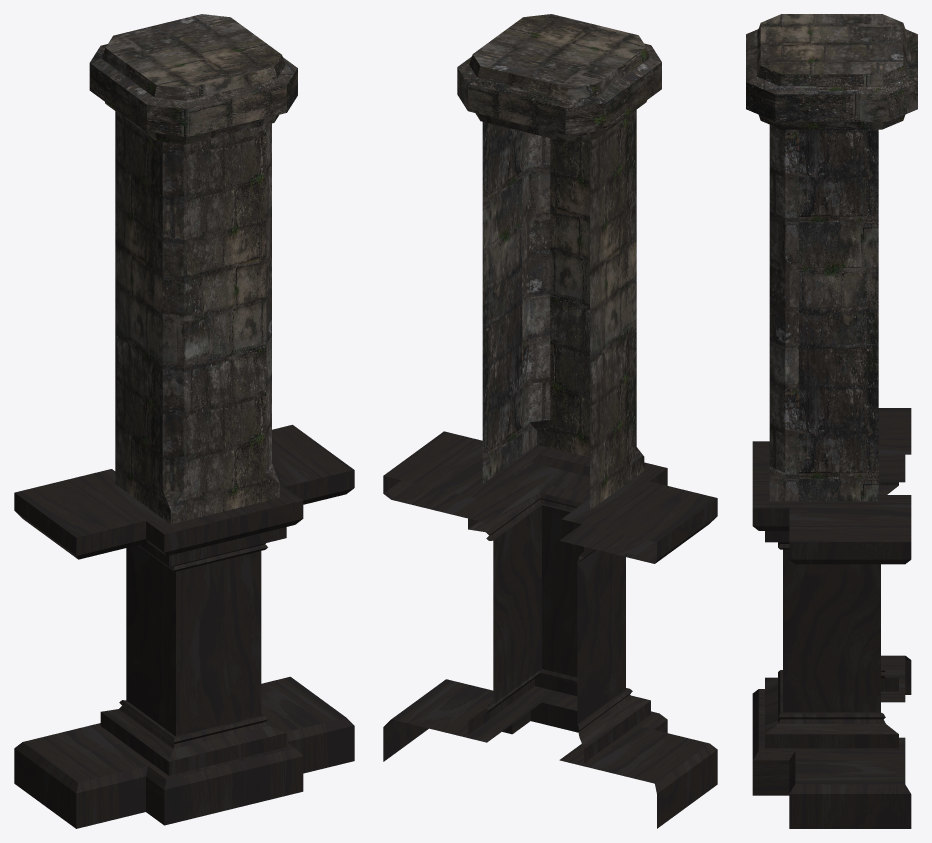
Rendered from middle_column.fbx.
3 views of the same model, side by side, from view 1: azimuth 30°, elevation 25°; view 2: azimuth 150°, elevation 25°; view 3: azimuth 270°, elevation 25° (orthographic).
Parts seen in each view (by area): view 1: [Imported] middle; view 2: [Imported] middle; view 3: [Imported] middle.
Boxes of the visible parts, box(x1,y1,x2,y2) form: [Imported] middle: box(14, 14, 354, 828); [Imported] middle: box(383, 14, 717, 828); [Imported] middle: box(746, 14, 917, 828).
Size of the model in its own units: 512 by 1280 by 278.
2 materials, 2 textured.
